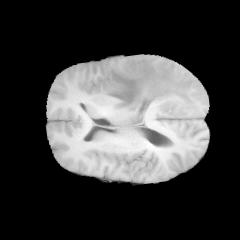glioma: (104, 57, 199, 111)
